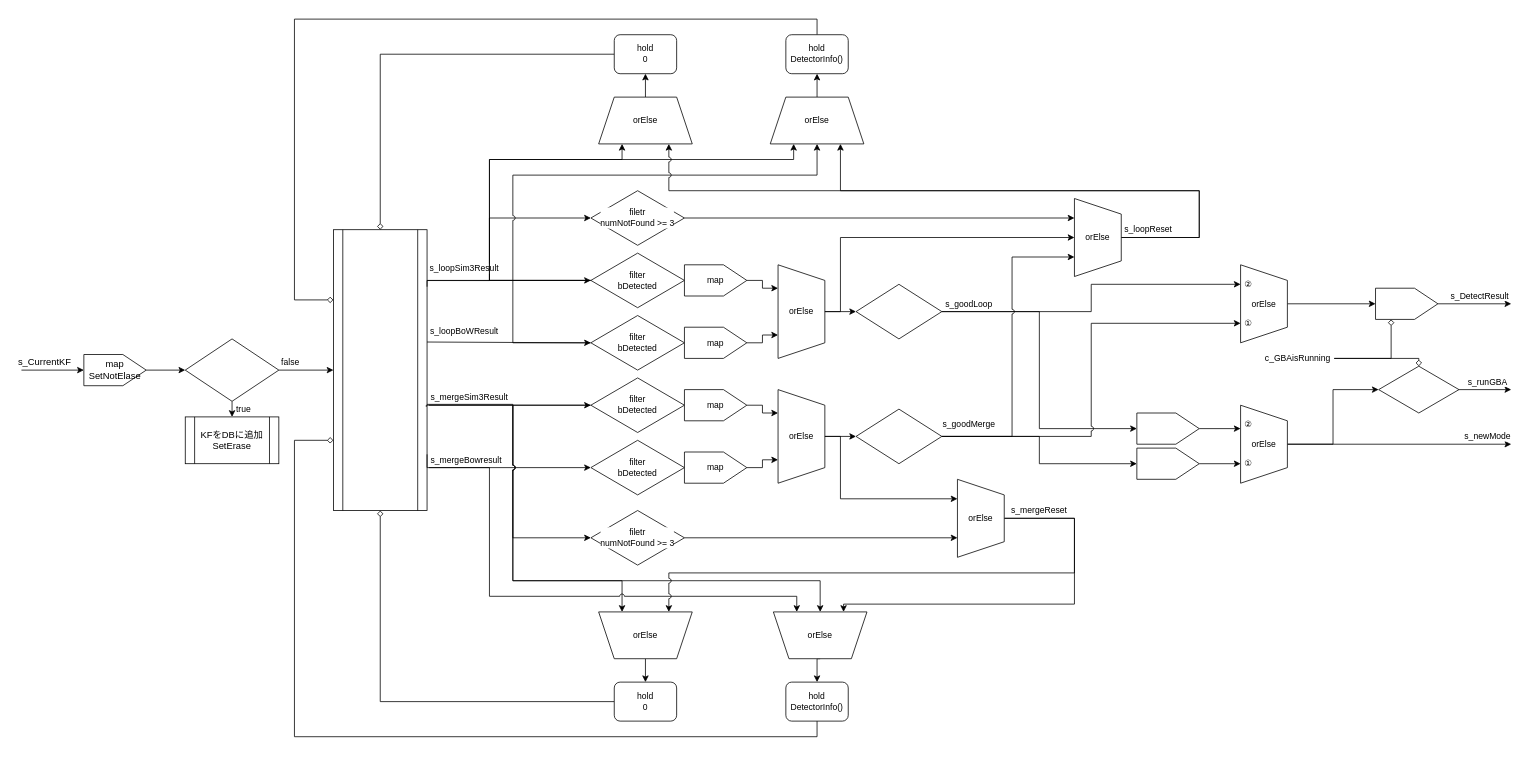
This 1531x757 diagram has some shape labels left out. Each missing label, with the box of its shape:
Detectors: (333, 229, 427, 511)
filter CheckSkipCondition: (184, 338, 279, 401)
filter GoddLoop: (855, 284, 942, 339)
filter GoddMerge: (855, 408, 942, 464)
gate: (1378, 365, 1459, 413)
mapTo Loop: (1136, 412, 1199, 444)
mapTo Merge: (1136, 447, 1199, 479)
snapshot: (1375, 287, 1438, 319)
